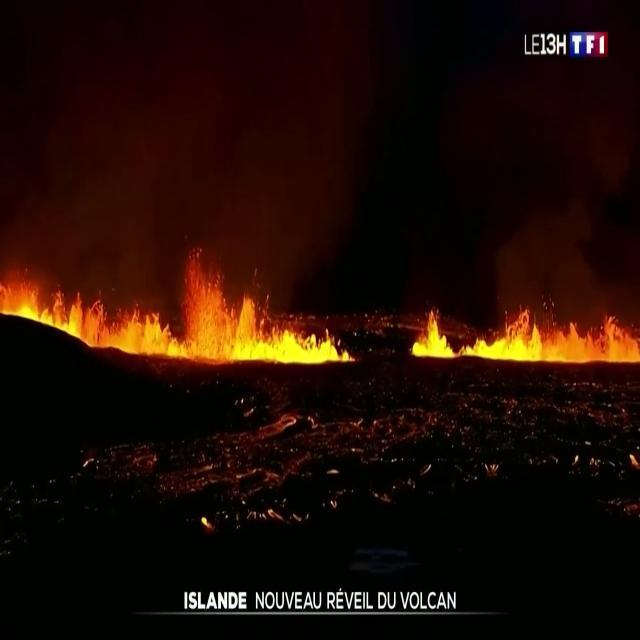Fire: (0, 235, 354, 363), (404, 290, 640, 368)
